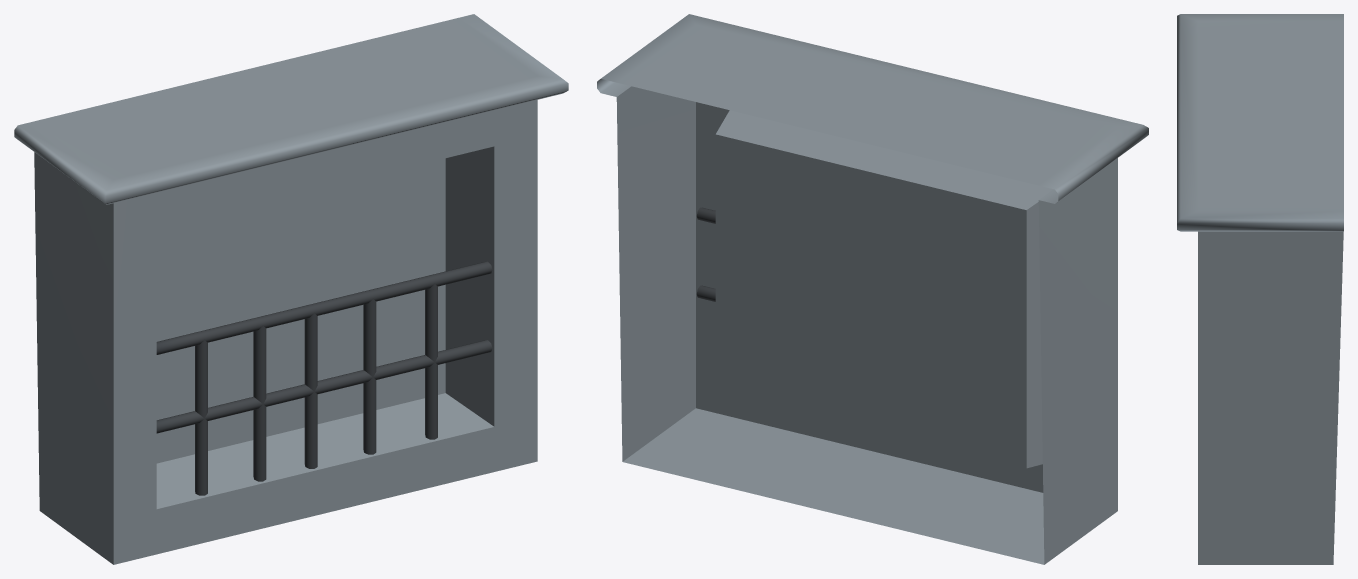
The model's file is caminetto.fbx.
The picture shows the model from 3 angles, left to right: view 1: azimuth 30°, elevation 25°; view 2: azimuth 150°, elevation 25°; view 3: azimuth 270°, elevation 25°; orthographic projection. The views are drawn at different scales.
Visible parts, largest first — view 1: Caminetto; view 2: Caminetto; view 3: Caminetto.
Part boxes in pixels (<box>): Caminetto: <box>14,14,568,564</box>; Caminetto: <box>597,14,1148,564</box>; Caminetto: <box>1177,14,1343,564</box>.
Size of the model in its own units: 2.37 by 1.89 by 0.8064.
